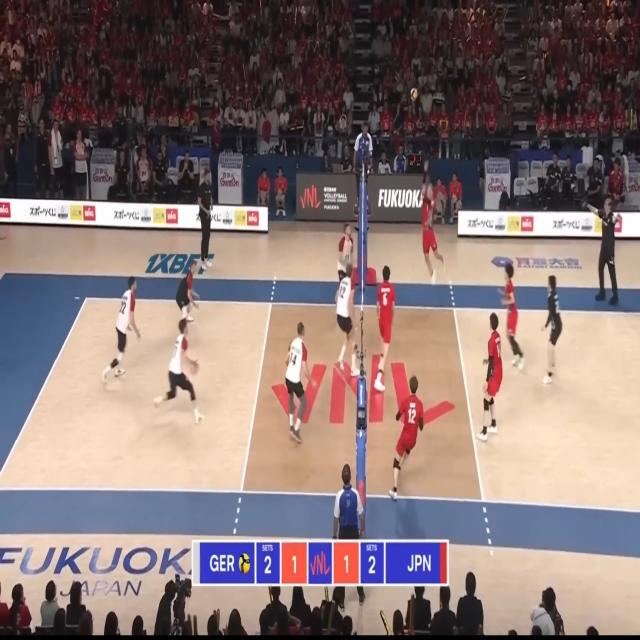ball: (410, 89, 417, 101)
